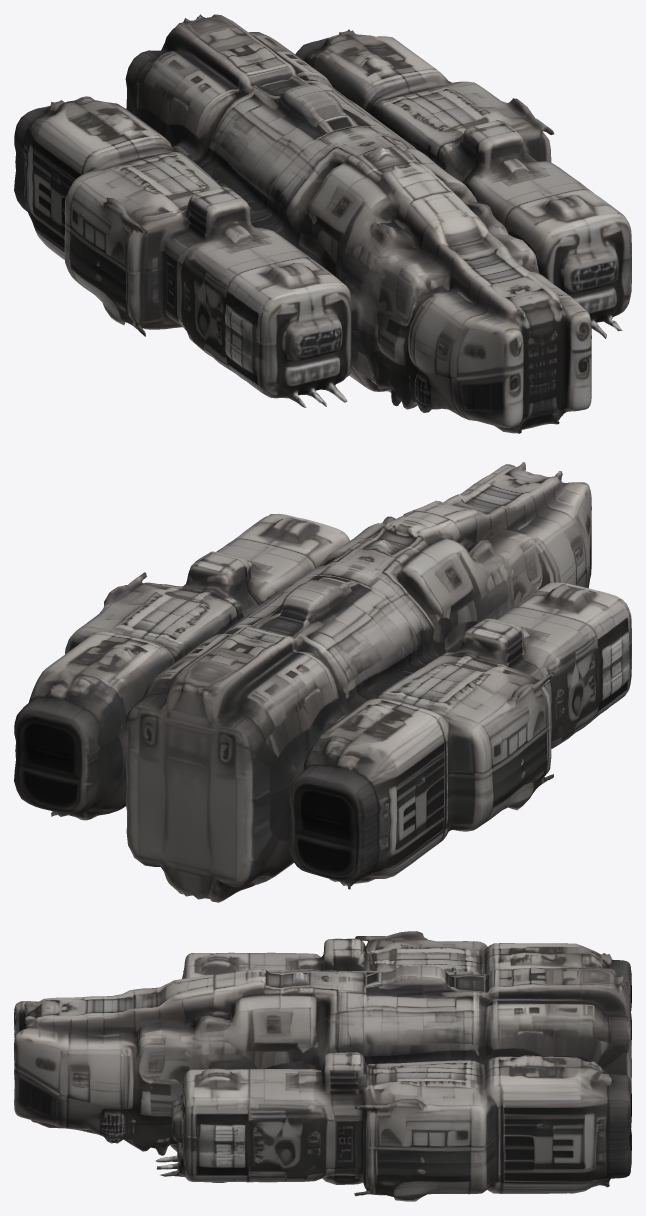
The model's file is enemigo 1.fbx.
3 renders of one model, top to bottom at view 1: azimuth 30°, elevation 25°; view 2: azimuth 150°, elevation 25°; view 3: azimuth 270°, elevation 25°, orthographic. The views are drawn at different scales.
Visible parts, largest first — view 1: Nave enemiga 1; view 2: Nave enemiga 1; view 3: Nave enemiga 1.
Part boxes in pixels (bbox=[...]): Nave enemiga 1: bbox=[14, 14, 631, 433]; Nave enemiga 1: bbox=[14, 462, 631, 902]; Nave enemiga 1: bbox=[14, 931, 631, 1201].
Bounding box in the file's own units: 130 × 66.43 × 190.
